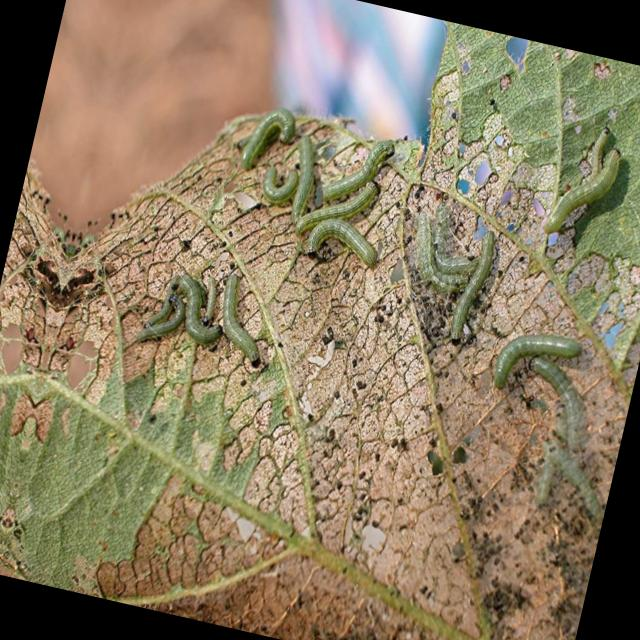Armyworm: (535, 125, 636, 277), (502, 348, 614, 473), (483, 301, 589, 416), (197, 259, 283, 378), (530, 420, 613, 524), (160, 258, 227, 369), (449, 233, 506, 357), (235, 95, 299, 179), (139, 272, 192, 364), (254, 146, 304, 224)
Armyworm_damage: (478, 31, 558, 88), (441, 30, 484, 103), (595, 309, 637, 356), (464, 145, 504, 193), (483, 124, 520, 171), (378, 254, 415, 296), (545, 232, 573, 259)
